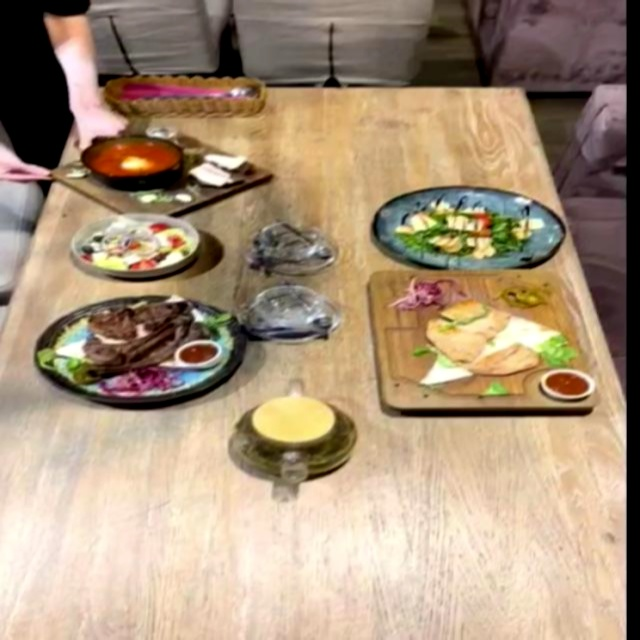meat: (359, 271, 602, 401), (35, 293, 253, 403)
salad: (371, 185, 565, 268), (70, 211, 202, 277)
soup: (69, 132, 251, 208)
tea: (231, 394, 360, 485)
